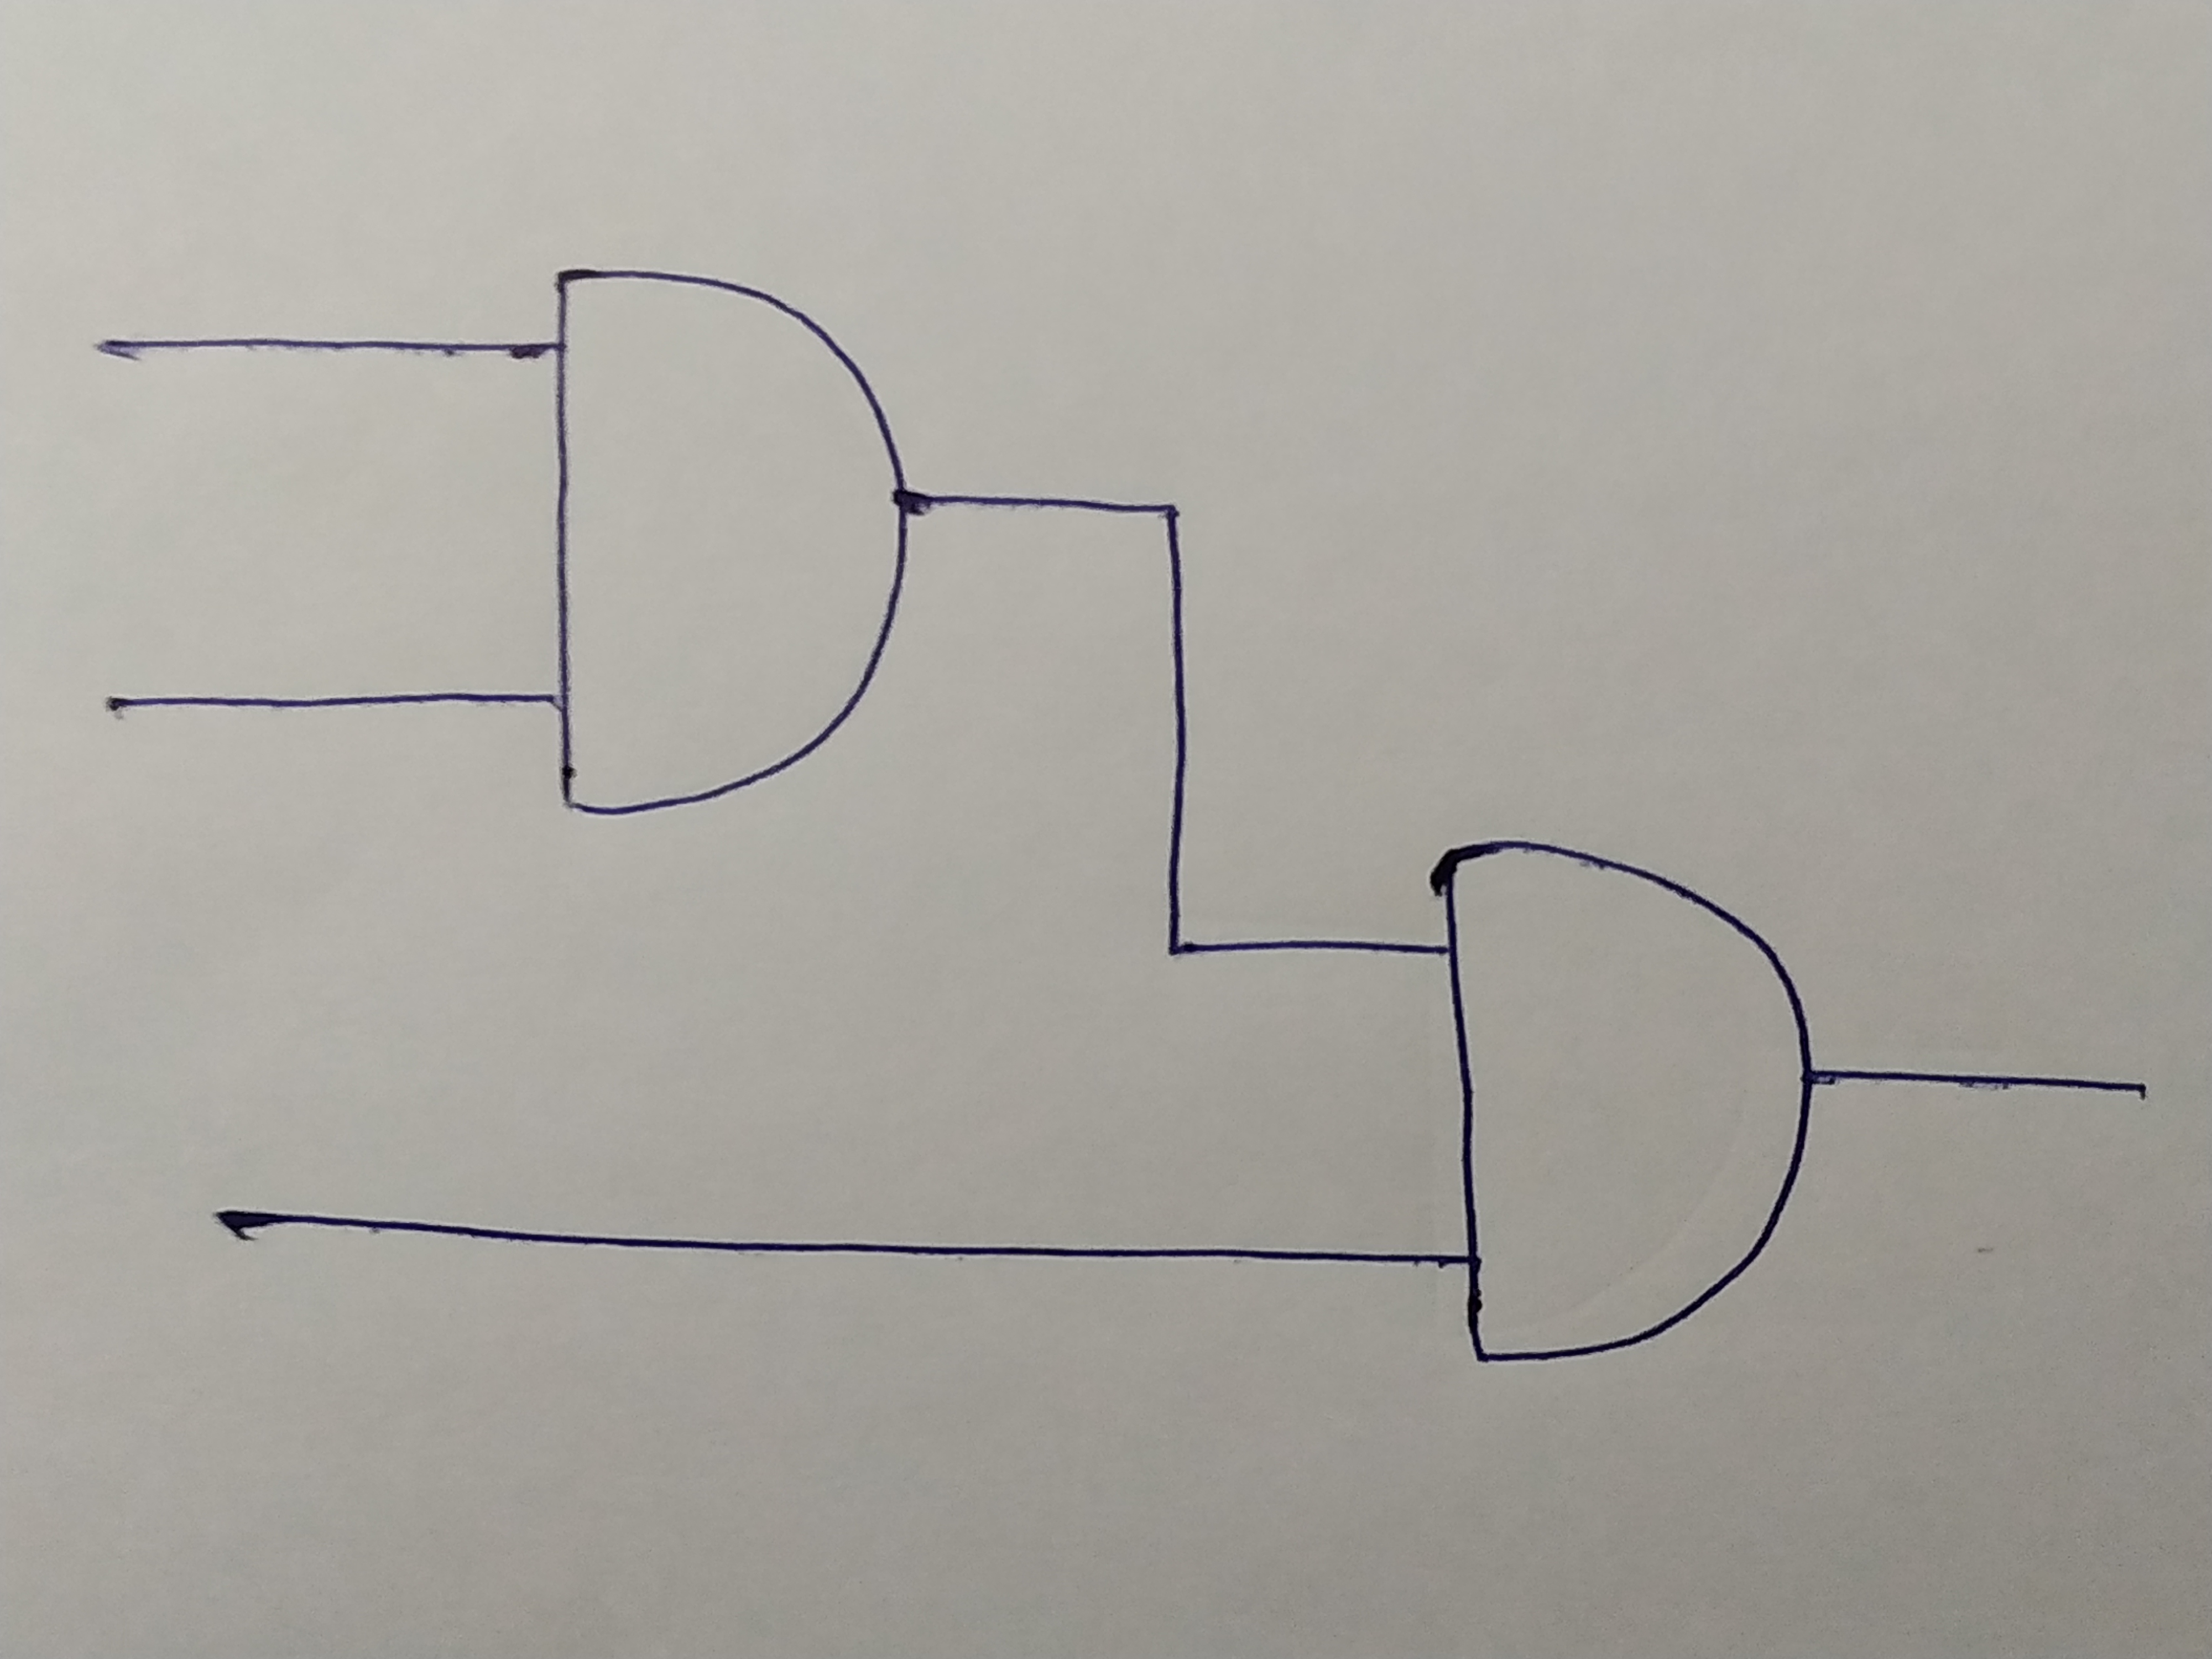and: (1433, 836, 1815, 1364), (552, 267, 911, 817)
